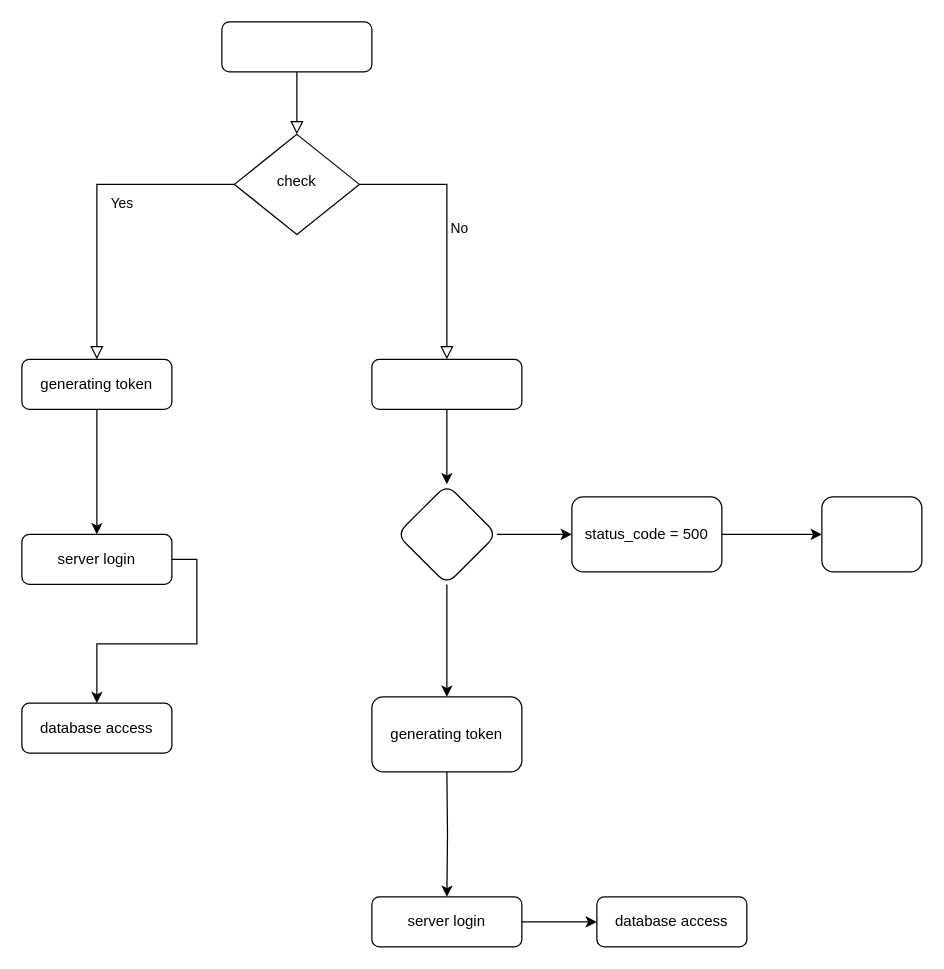
Image size: 944x969. Some labels were removed from this diagram. Here are the shapes that lost their labels. From the top down, the centre of each, then its label:
At pixel 296 46: "login".
At pixel 446 383: "status_code = 400".
At pixel 446 533: "repeat".
At pixel 871 534: "block".
